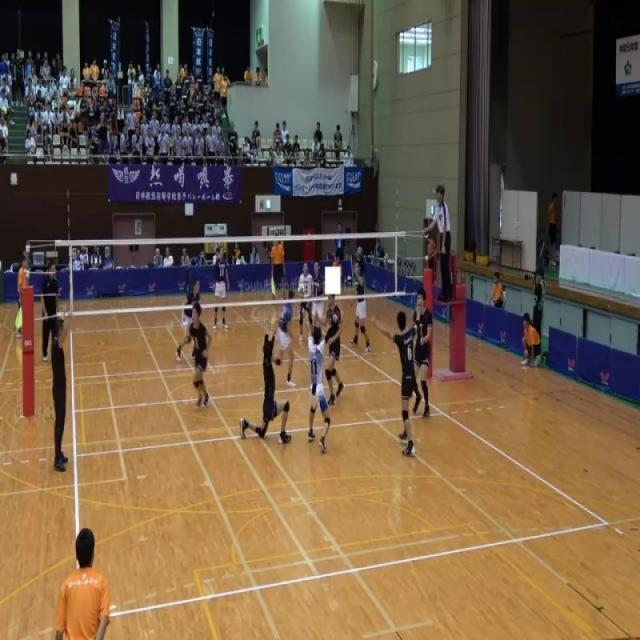volleyball: (297, 283, 305, 296)
